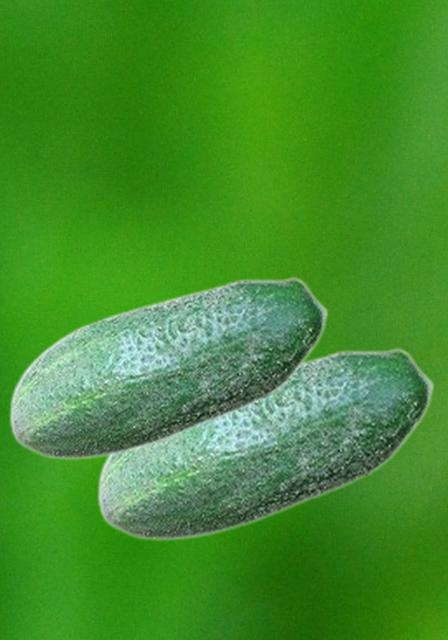cucumber: (96, 347, 434, 540), (8, 276, 328, 459)
